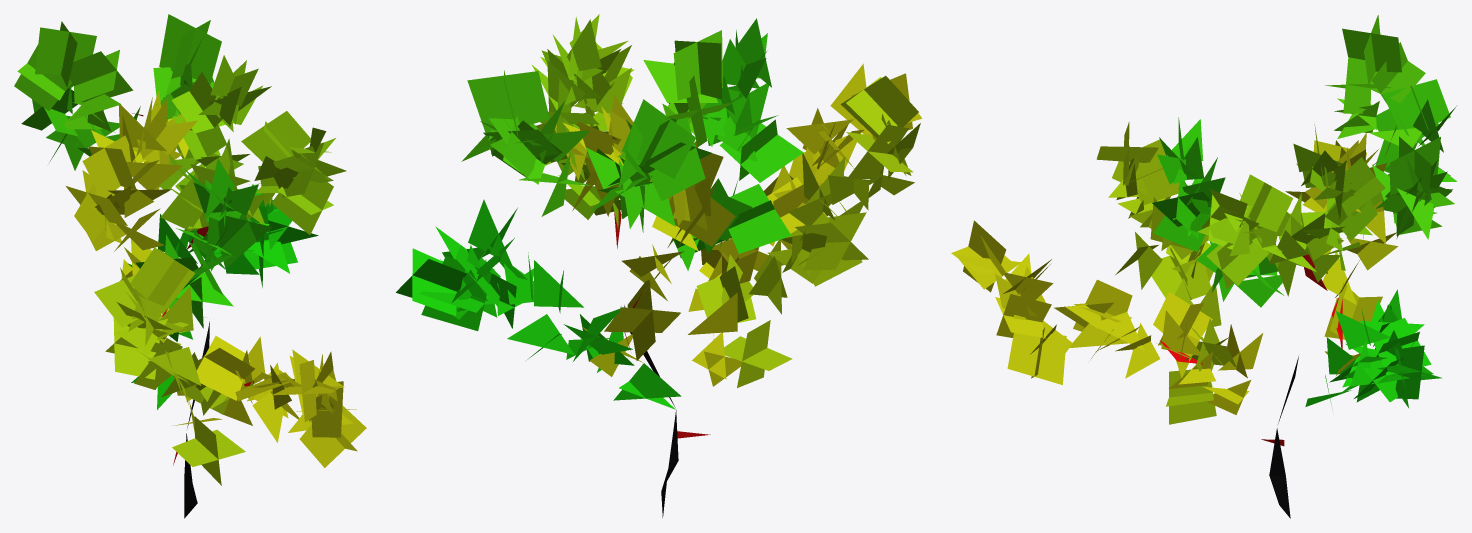
The model's file is plum1 lod4.FBX.
The picture shows the model from 3 angles, left to right: view 1: azimuth 30°, elevation 25°; view 2: azimuth 150°, elevation 25°; view 3: azimuth 270°, elevation 25°; orthographic projection. The views are drawn at different scales.
Parts seen in each view (by area): view 1: plum1_LOD4; view 2: plum1_LOD4; view 3: plum1_LOD4.
Boxes of the visible parts, box(x1,y1,x2,y2) form: plum1_LOD4: box(14, 14, 366, 518); plum1_LOD4: box(396, 14, 922, 517); plum1_LOD4: box(951, 15, 1457, 518).
Size of the model in its own units: 127114 by 183491 by 183491.
